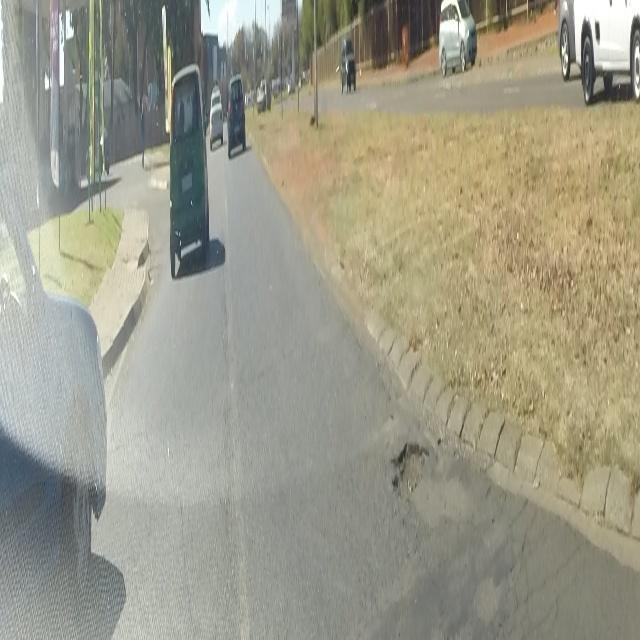pothole: (388, 434, 430, 506)
